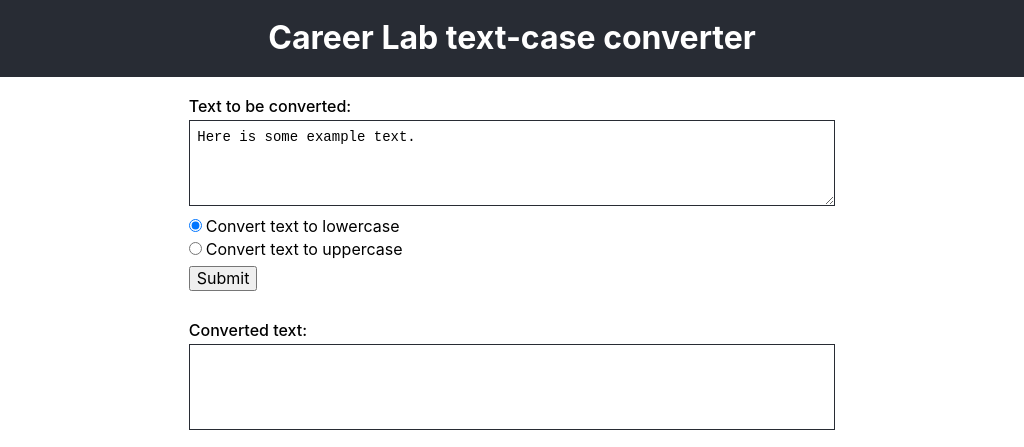
Test: Text-case coverter › should convert the input string into uppercase
The image size is (1024, 447).
Replace the text in the text box labelled "Text to be converted:" with "This is some text.": (512, 163) [189,120,835,206]
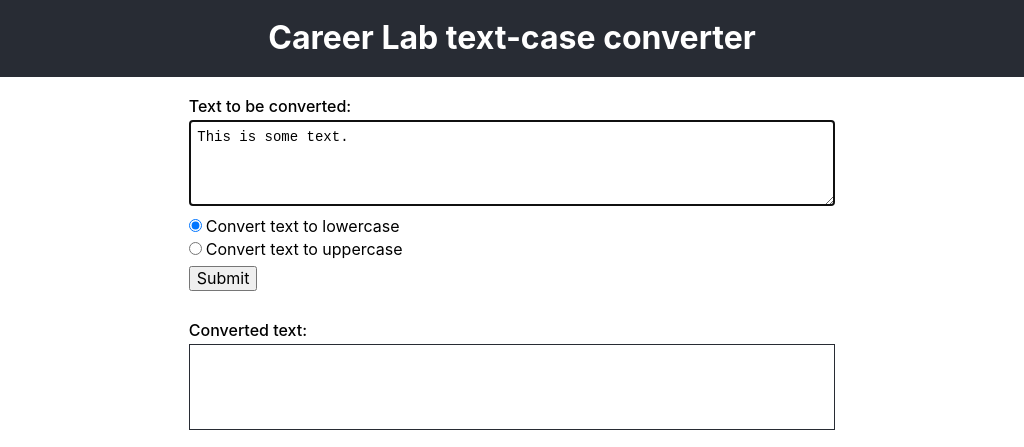
Click the radio button labelled "Convert text to uppercase": (195, 249) [189,242,202,256]
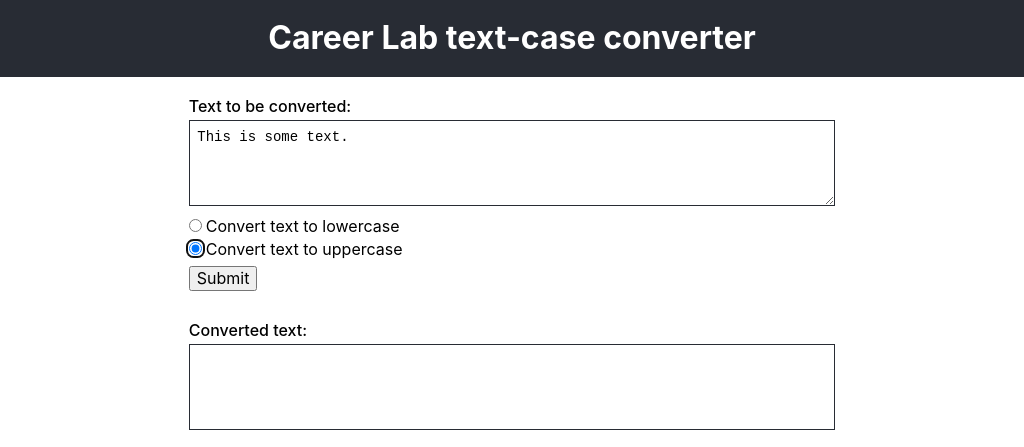
Click the button "Submit": (223, 279) [189,266,258,291]
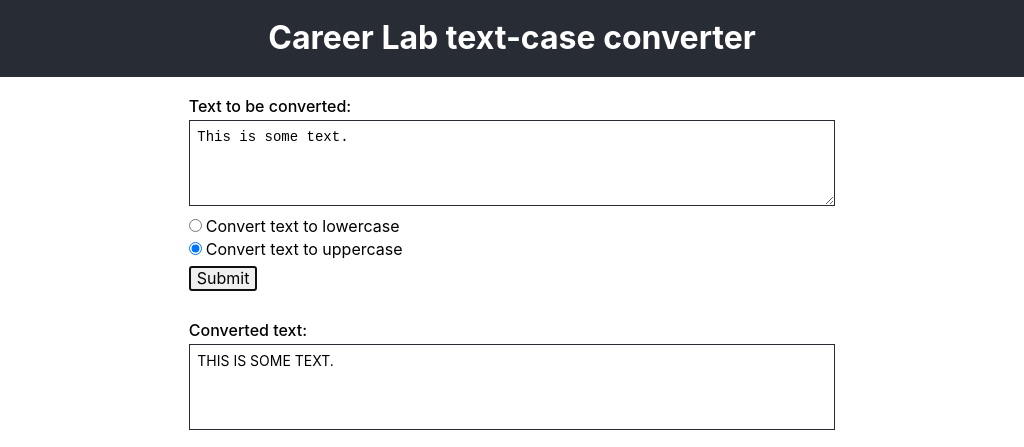
Check: the text named "Converted text:" reads "THIS IS SOME TEXT.", box [197,352,334,369]
